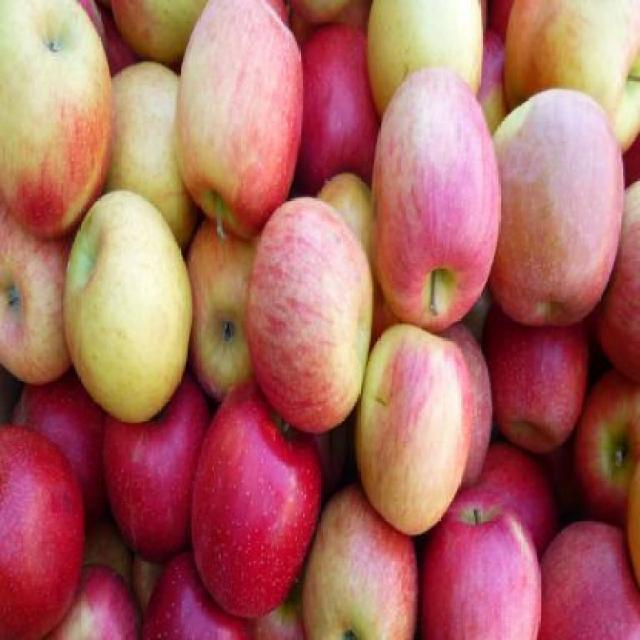Apple pie: (0, 0, 638, 638), (1, 6, 118, 243)
